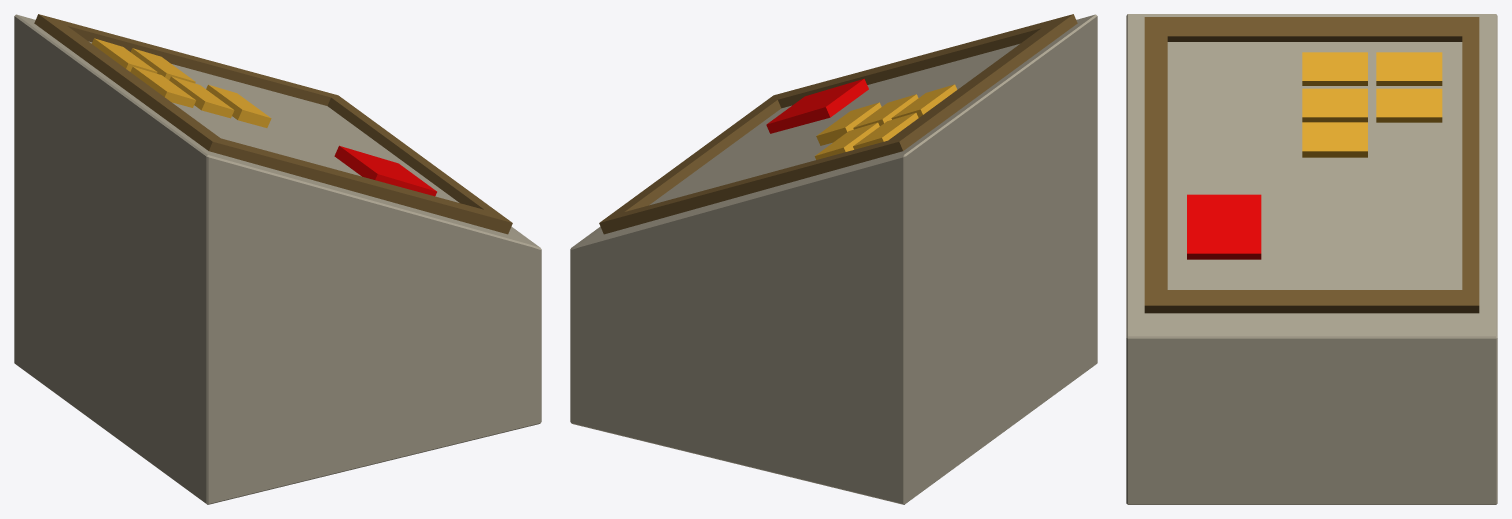
File: consola.fbx
3 views of the same model, side by side, from view 1: azimuth 30°, elevation 25°; view 2: azimuth 150°, elevation 25°; view 3: azimuth 270°, elevation 25° (orthographic). The views are drawn at different scales.
Visible parts, largest first — view 1: pCube1, pCube2, pasted__pCube6, pasted__pasted__pCube6, pasted__pCube4, pCube3, pasted__pasted__pCube5, pasted__pasted__pCube4; view 2: pCube1, pCube2, pasted__pCube6, pasted__pasted__pCube6, pasted__pasted__pCube5, pasted__pasted__pCube4, pCube3, pasted__pCube4; view 3: pCube2, pCube1, pasted__pCube6, pasted__pasted__pCube6, pasted__pasted__pCube4, pasted__pCube4, pasted__pasted__pCube5, pCube3.
Boxes of the visible parts, bbox=[...] form: pCube1: bbox=[14, 14, 541, 504]; pCube2: bbox=[34, 14, 512, 234]; pasted__pCube6: bbox=[334, 145, 436, 196]; pasted__pasted__pCube6: bbox=[206, 84, 271, 127]; pasted__pCube4: bbox=[169, 76, 234, 118]; pCube3: bbox=[130, 66, 195, 107]; pasted__pasted__pCube5: bbox=[91, 38, 157, 73]; pasted__pasted__pCube4: bbox=[131, 48, 195, 83]; pCube1: bbox=[570, 14, 1097, 504]; pCube2: bbox=[599, 14, 1077, 234]; pasted__pCube6: bbox=[766, 78, 868, 133]; pasted__pasted__pCube6: bbox=[816, 102, 881, 145]; pasted__pasted__pCube5: bbox=[853, 112, 918, 149]; pasted__pasted__pCube4: bbox=[814, 122, 879, 159]; pCube3: bbox=[891, 84, 957, 119]; pasted__pCube4: bbox=[853, 94, 918, 129]; pCube2: bbox=[1144, 17, 1479, 313]; pCube1: bbox=[1126, 14, 1497, 504]; pasted__pCube6: bbox=[1187, 194, 1261, 259]; pasted__pasted__pCube6: bbox=[1302, 122, 1367, 157]; pasted__pasted__pCube4: bbox=[1376, 88, 1442, 122]; pasted__pCube4: bbox=[1302, 88, 1367, 122]; pasted__pasted__pCube5: bbox=[1376, 52, 1442, 85]; pCube3: bbox=[1302, 52, 1367, 85].
Bounding box in the file's own units: 5 × 5.04 × 5.
